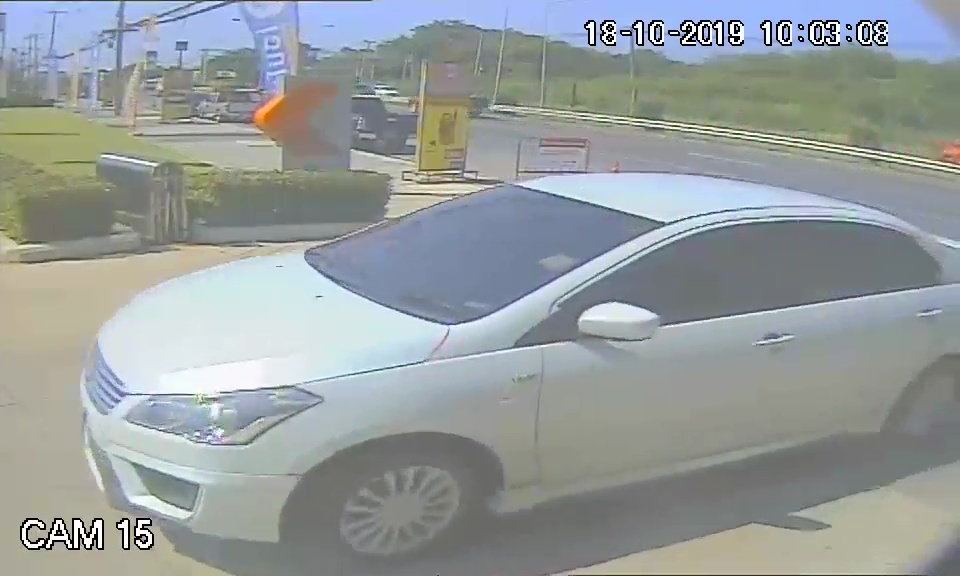sedan: (79, 172, 960, 546)
